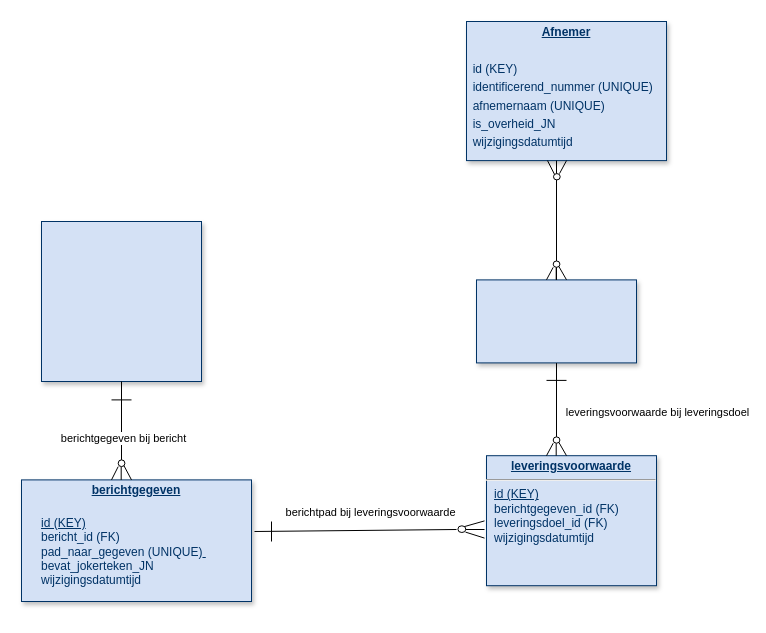
This 766x633 diagram has some shape labels left out. Here are the shapes that lost their labels. From the top down, the centre of each, then its label:
the point at 122,302: bericht id (KEY) berichtnaam (UNIQUE) wijzigingsdatumtijd
the point at 557,322: leveringsdoel id (KEY) leveringsdoel (UNIQUE) wijzigingsdatumtijd
